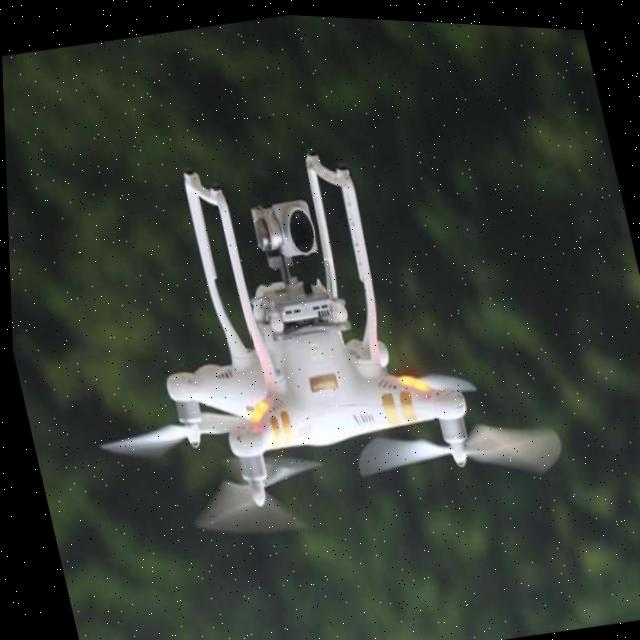drones: (19, 70, 590, 627)
